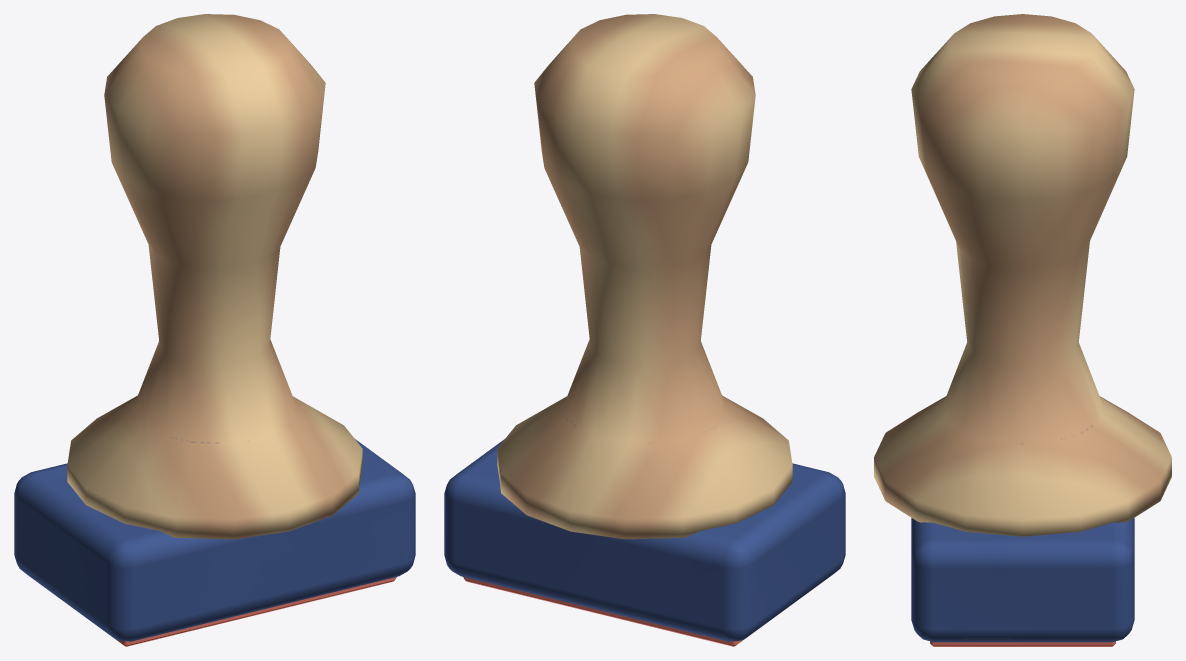
Rendered from Inspect_Stamp.fbx.
The picture shows the model from 3 angles, left to right: view 1: azimuth 30°, elevation 25°; view 2: azimuth 150°, elevation 25°; view 3: azimuth 270°, elevation 25°; orthographic projection.
Parts seen in each view (by area): view 1: Inspect_Stamp; view 2: Inspect_Stamp; view 3: Inspect_Stamp.
Boxes of the visible parts, x1=… form: Inspect_Stamp: x1=14, y1=14, x2=415, y2=646; Inspect_Stamp: x1=444, y1=14, x2=845, y2=646; Inspect_Stamp: x1=874, y1=14, x2=1171, y2=646.
Size of the model in its own units: 0.095 by 0.161 by 0.08.
1 material, 1 textured.
